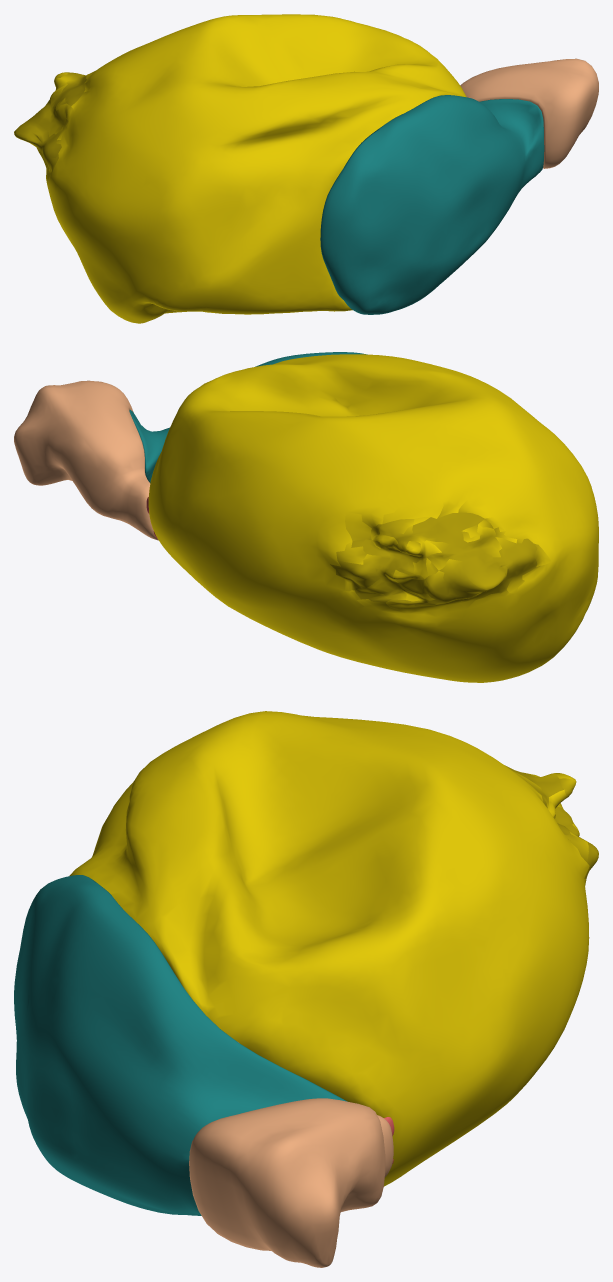
The model's file is CS08 Traversable Derms.fbx.
The picture shows the model from 3 angles, top to bottom: view 1: azimuth 30°, elevation 25°; view 2: azimuth 150°, elevation 25°; view 3: azimuth 270°, elevation 25°; orthographic projection. The views are drawn at different scales.
Visible parts, largest first — view 1: Yolk sac wall, Amnion wall, Connecting stalk; view 2: Yolk sac wall, Connecting stalk, Amnion wall; view 3: Yolk sac wall, Amnion wall, Connecting stalk.
Boxes of the visible parts, bbox=[...] form: Yolk sac wall: bbox=[14, 14, 466, 323]; Amnion wall: bbox=[320, 95, 544, 314]; Connecting stalk: bbox=[460, 58, 598, 168]; Yolk sac wall: bbox=[148, 354, 598, 682]; Connecting stalk: bbox=[14, 380, 158, 540]; Amnion wall: bbox=[129, 352, 367, 482]; Yolk sac wall: bbox=[69, 711, 598, 1186]; Amnion wall: bbox=[14, 875, 347, 1215]; Connecting stalk: bbox=[189, 1098, 393, 1267].
Size of the model in its own units: 29.59 by 13.45 by 18.42.
